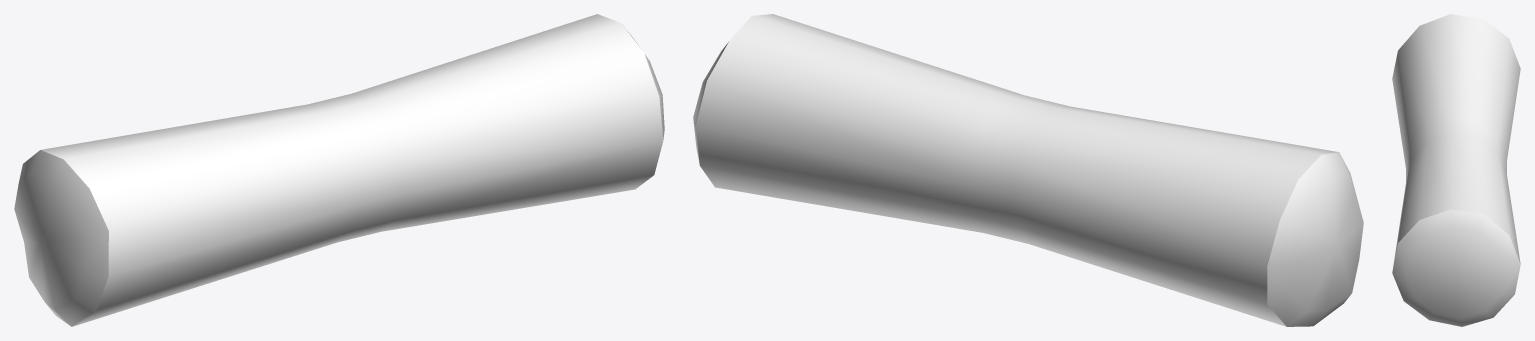
3 renders of one model, left to right at view 1: azimuth 30°, elevation 25°; view 2: azimuth 150°, elevation 25°; view 3: azimuth 270°, elevation 25°, orthographic. The views are drawn at different scales.
Visible parts, largest first — view 1: SM_Scroll_2_LOD0; view 2: SM_Scroll_2_LOD0; view 3: SM_Scroll_2_LOD0.
Part boxes in pixels (box(x1,y1,x2,y2)): SM_Scroll_2_LOD0: box(14, 14, 664, 326); SM_Scroll_2_LOD0: box(693, 14, 1363, 326); SM_Scroll_2_LOD0: box(1392, 14, 1520, 326).
Bounding box in the file's own units: 0.4592 × 0.1195 × 0.1195.
Materials: 1 (1 with a texture image).
